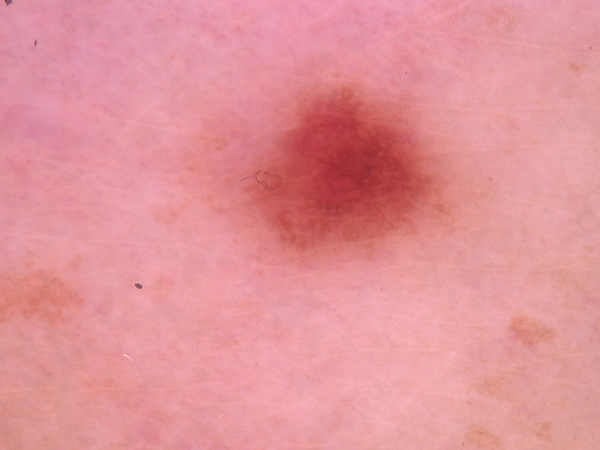Detected Lesion: (229, 87, 462, 267)
